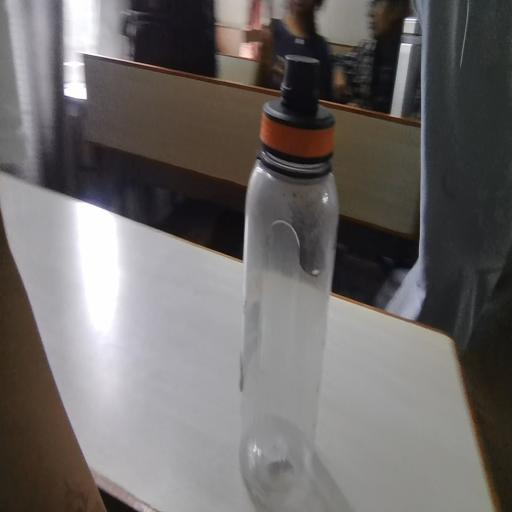Bottle: (239, 18, 342, 472)
